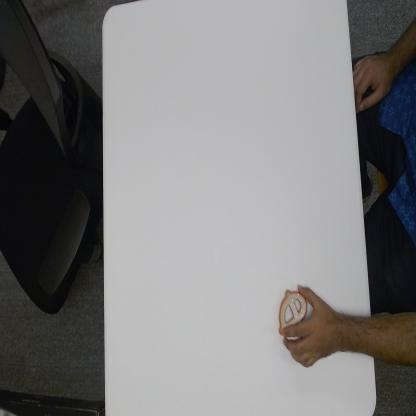Pretzel: (278, 283, 344, 368), (278, 288, 308, 340)
